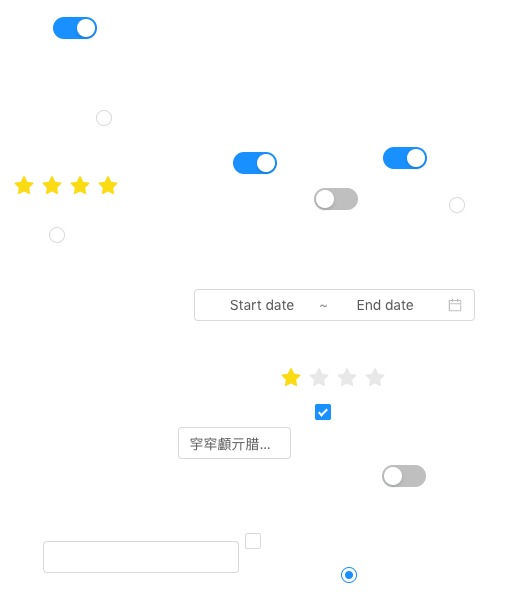Checkbox: (315, 401, 331, 422), (245, 530, 261, 551)
Input: (43, 541, 239, 573), (178, 427, 291, 459)
Radio: (49, 224, 65, 244), (96, 107, 112, 127), (449, 194, 465, 214), (341, 564, 357, 584)
RangePicker: (194, 289, 475, 321)
Rate: (281, 361, 401, 393), (14, 169, 134, 201)
Switch: (383, 146, 427, 170), (53, 16, 97, 40), (233, 151, 277, 175), (314, 187, 358, 211), (382, 464, 426, 488)
